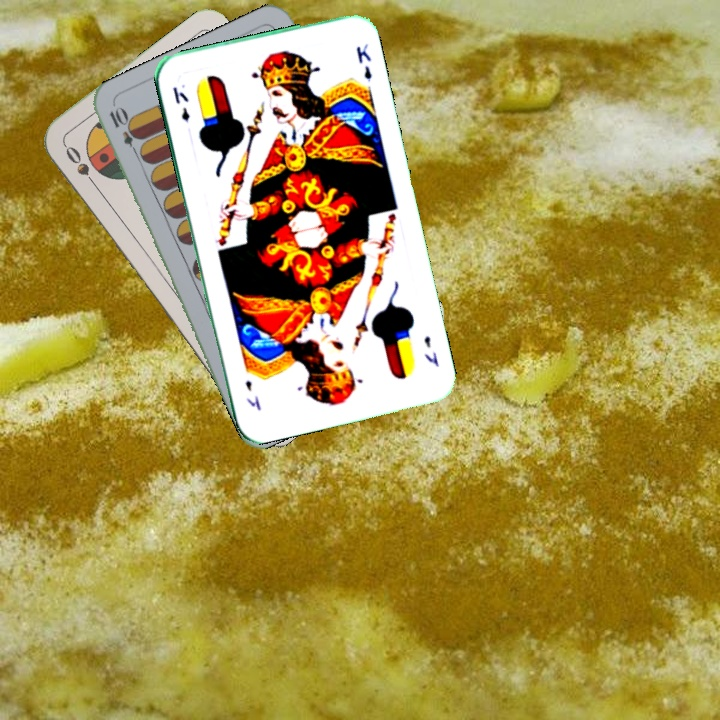E10: (105, 103, 143, 160)
EK: (169, 82, 193, 124), (420, 331, 442, 370)
SO: (60, 141, 101, 192)
